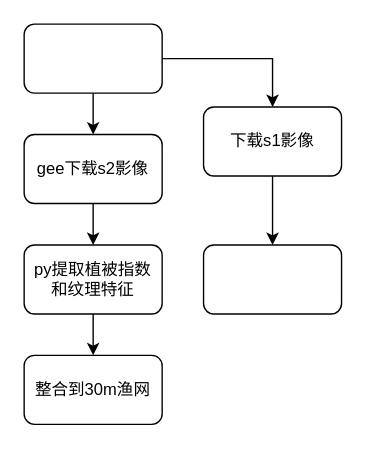
This 366x449 diagram has some shape labels left out. Here are the shapes that lost their labels. From the top down, the box of each, then its label:
(23, 23, 162, 93): 确认研究区边界
(202, 244, 342, 314): 先对齐or 先计算特征
